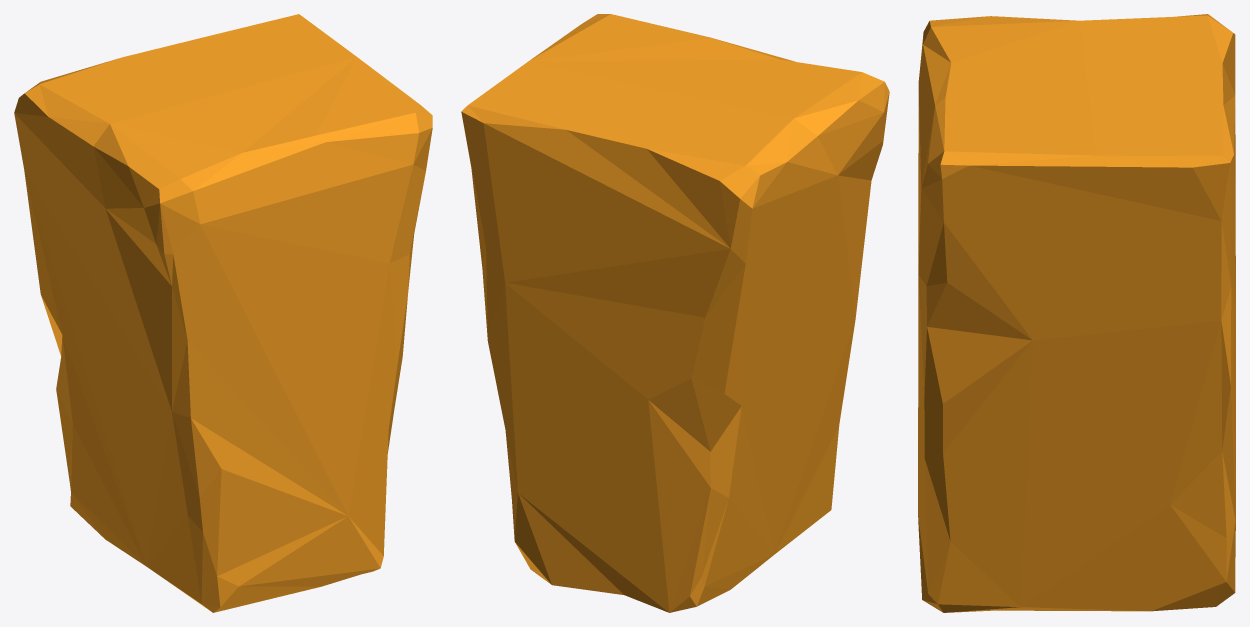
File: SM_Icon_Letter_Apostrophe_01.fbx
3 views of the same model, side by side, from view 1: azimuth 30°, elevation 25°; view 2: azimuth 150°, elevation 25°; view 3: azimuth 270°, elevation 25° (orthographic). The views are drawn at different scales.
Parts seen in each view (by area): view 1: SM_Icon_Letter_Apostrophe_01; view 2: SM_Icon_Letter_Apostrophe_01; view 3: SM_Icon_Letter_Apostrophe_01.
Part boxes in pixels (x1,y1,x2,y2): SM_Icon_Letter_Apostrophe_01: [14, 14, 432, 612]; SM_Icon_Letter_Apostrophe_01: [461, 14, 889, 612]; SM_Icon_Letter_Apostrophe_01: [918, 14, 1235, 612].
Bounding box in the file's own units: 12.13 × 18.29 × 10.7.
